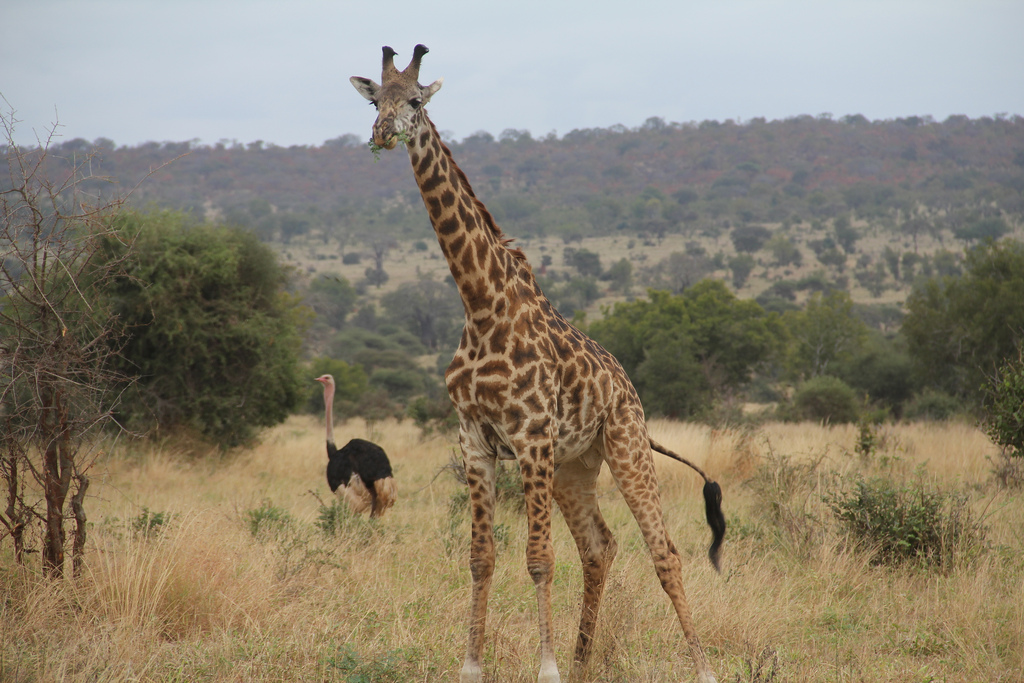giraffe: (347, 28, 746, 656)
